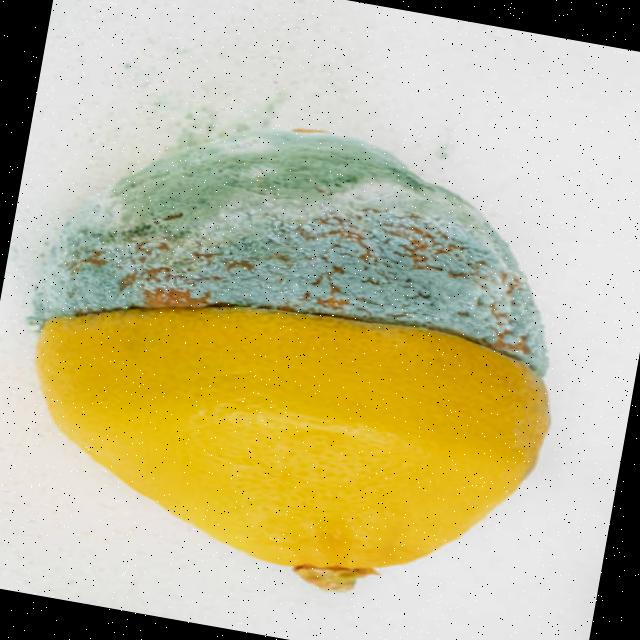Rotten: (0, 80, 597, 627)
